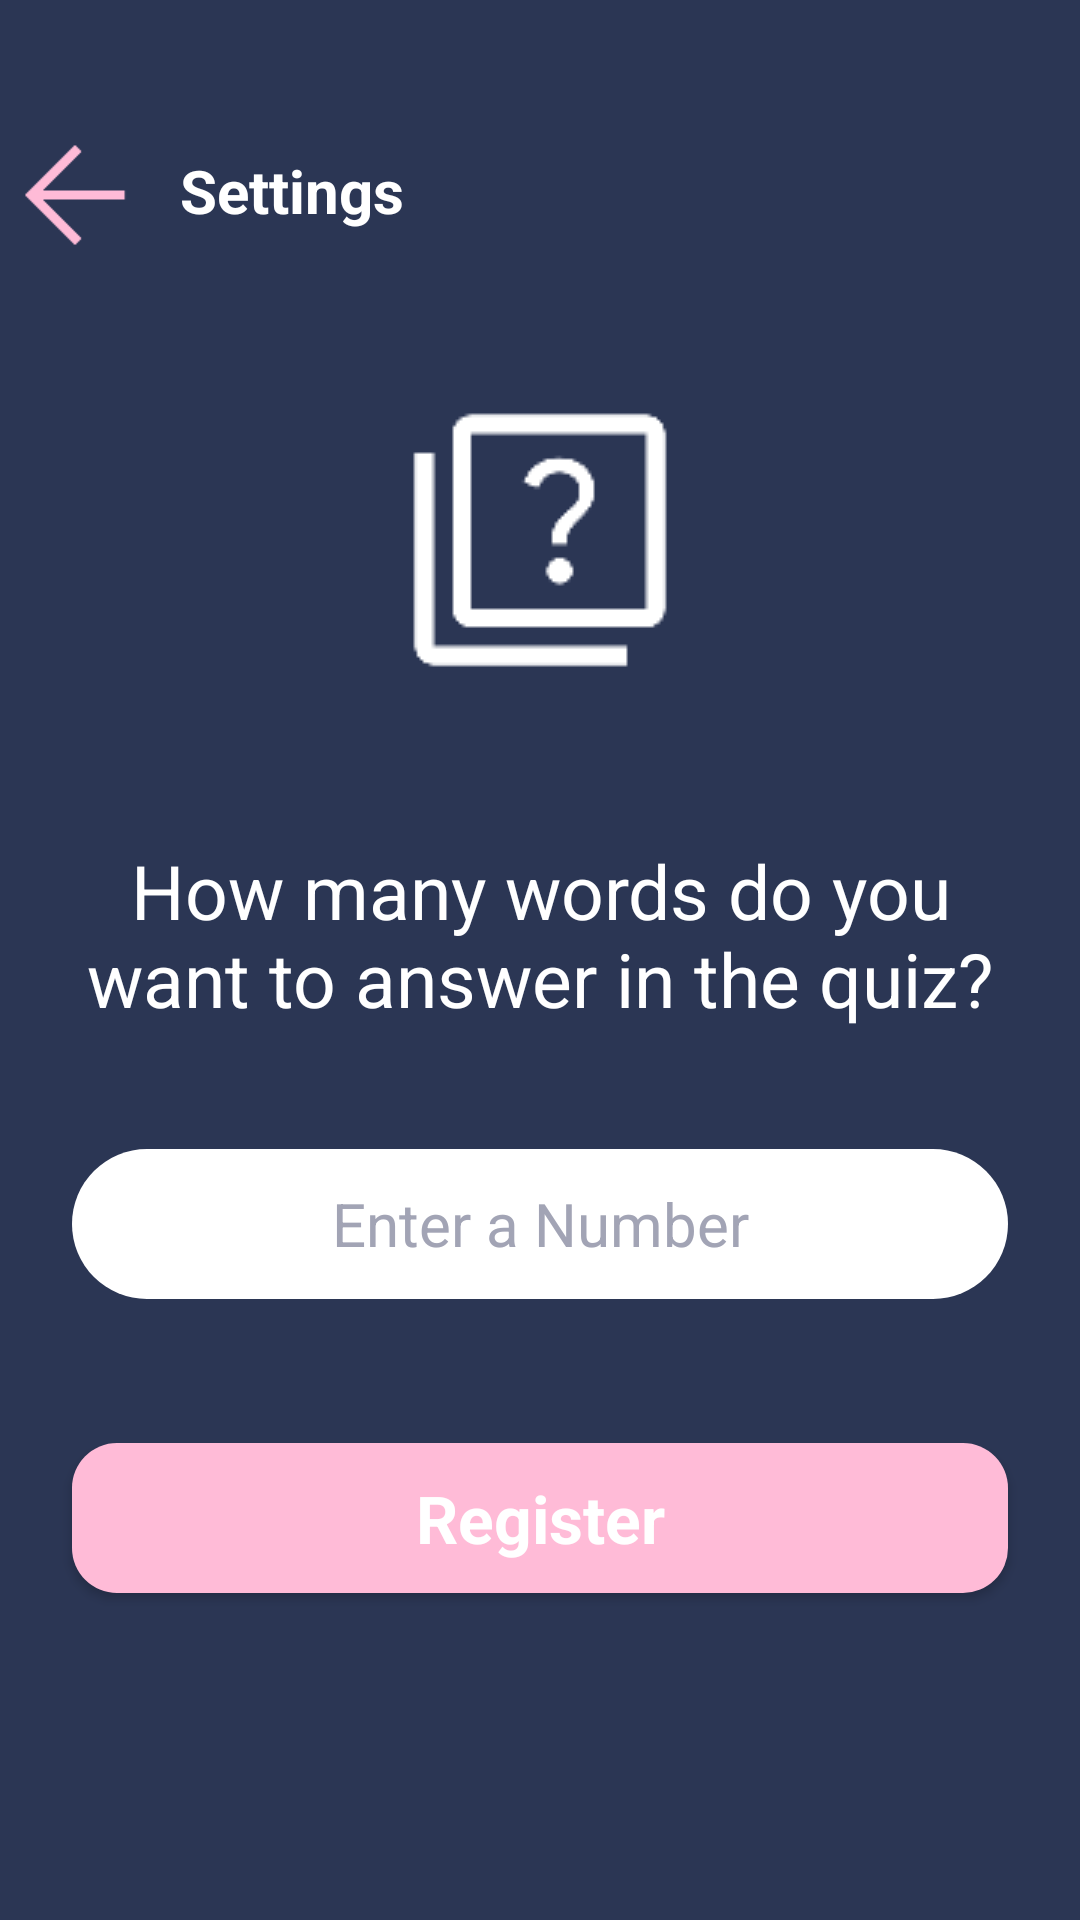

Icon click points for this 1080 x 1920 phone screenshot, format [x,y]:
left arrow: [75,195]
